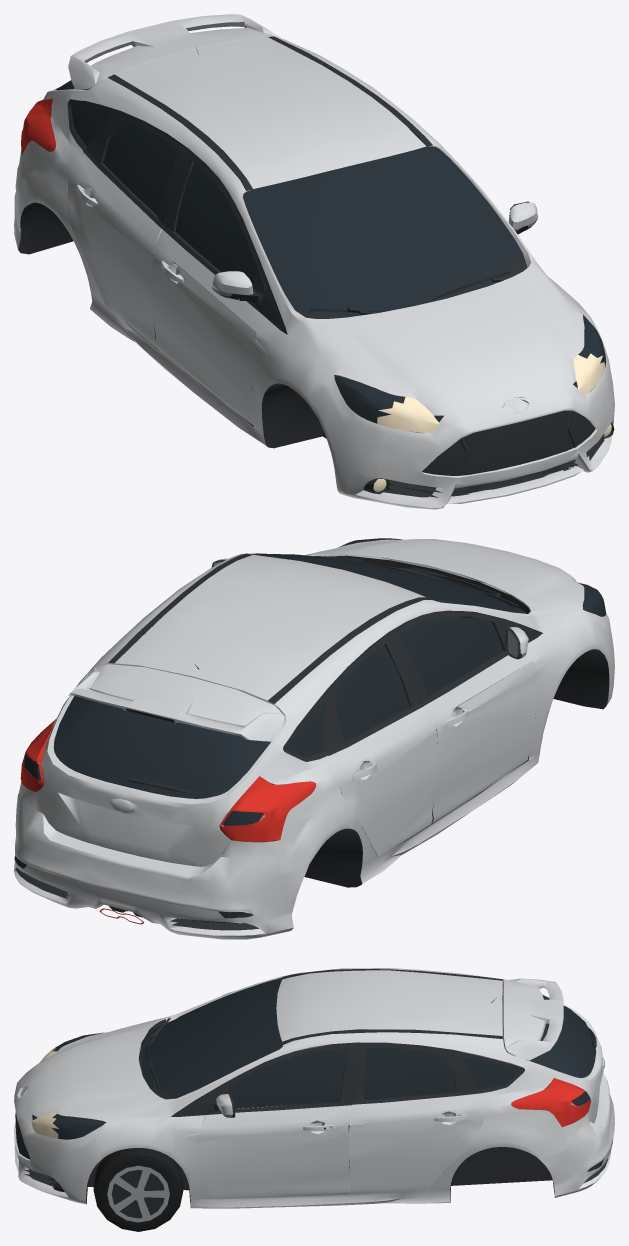
The model's file is hot-hatch.glb.
3 views of the same model, one above another, from view 1: azimuth 30°, elevation 25°; view 2: azimuth 150°, elevation 25°; view 3: azimuth 270°, elevation 25° (orthographic). The views are drawn at different scales.
Parts seen in each view (by area): view 1: Car body, Car glazing, Car trim, Car headlamps, Car tail lamps; view 2: Car body, Car glazing, Car trim, Car tail lamps; view 3: Car body, Car glazing, Car trim, Wheel tyre, Car tail lamps, Wheel rim, Wheel well, Car headlamps.
Boxes of the visible parts, left/top/right/bottom form: Car body: left=14, top=14, right=614, bottom=509; Car glazing: left=24, top=80, right=606, bottom=423; Car trim: left=18, top=36, right=614, bottom=497; Car headlamps: left=373, top=353, right=611, bottom=491; Car tail lamps: left=21, top=99, right=55, bottom=154; Car body: left=14, top=539, right=614, bottom=939; Car glazing: left=24, top=538, right=606, bottom=825; Car trim: left=14, top=543, right=609, bottom=930; Car tail lamps: left=20, top=719, right=316, bottom=924; Car body: left=14, top=968, right=614, bottom=1208; Car glazing: left=52, top=978, right=596, bottom=1139; Car trim: left=15, top=969, right=608, bottom=1203; Wheel tyre: left=93, top=1148, right=183, bottom=1231; Car tail lamps: left=511, top=1078, right=591, bottom=1127; Wheel rim: left=107, top=1165, right=169, bottom=1222; Wheel well: left=110, top=1165, right=165, bottom=1218; Car headlamps: left=31, top=1048, right=58, bottom=1138.
Bounding box in the file's own units: 1.98 × 1.48 × 4.36.
